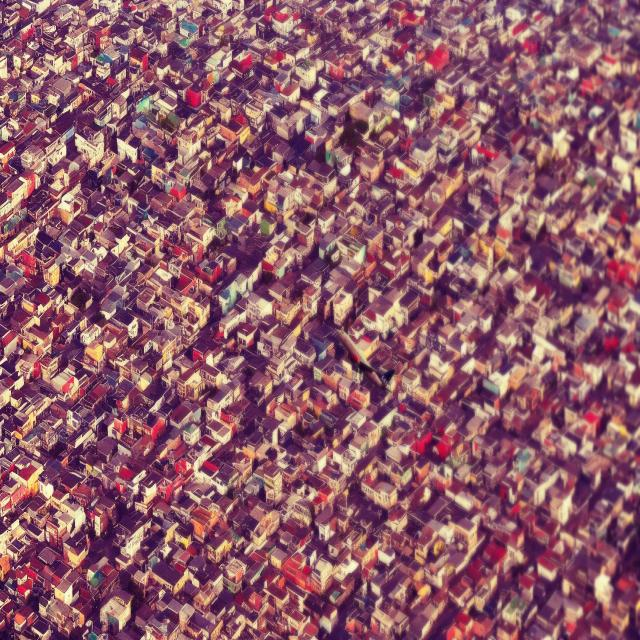airplane: (335, 328, 393, 394)
